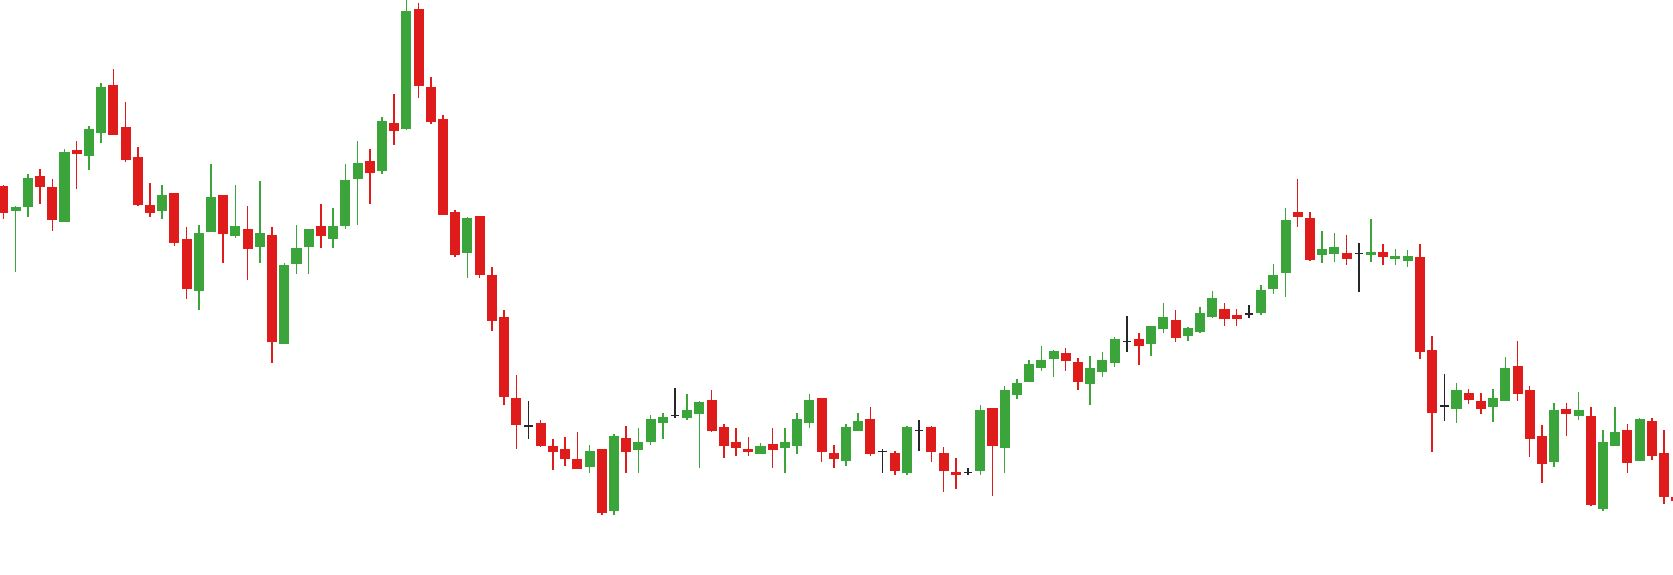buy: (180, 215, 292, 366)
